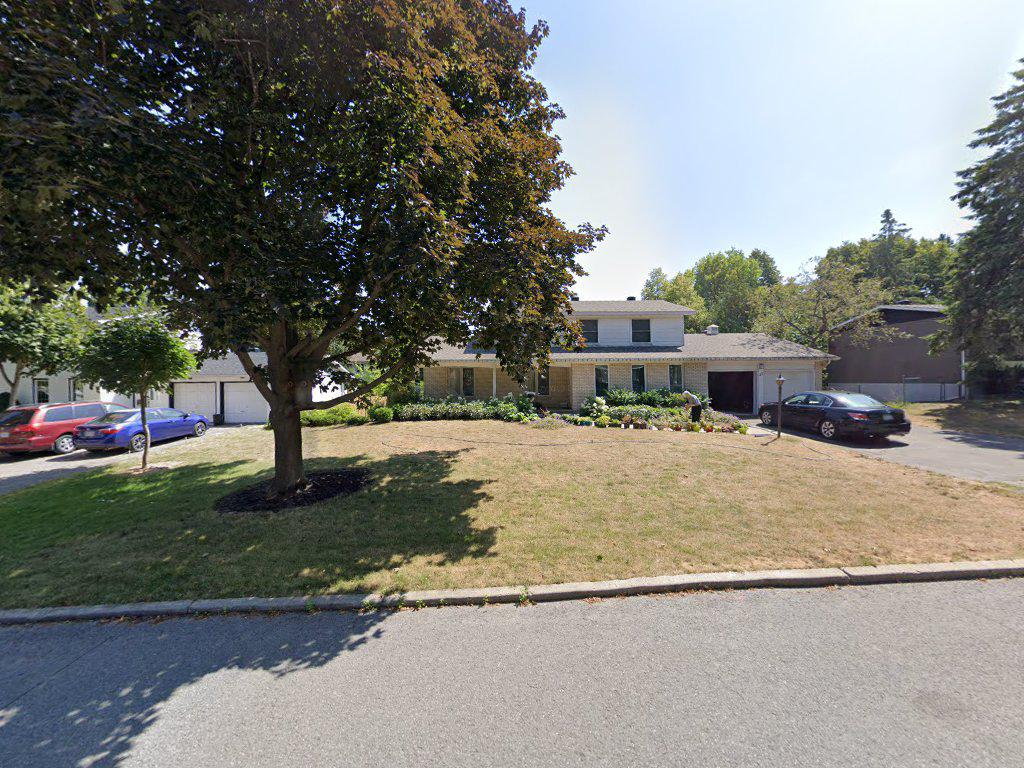trunk: (256, 318, 311, 509)
